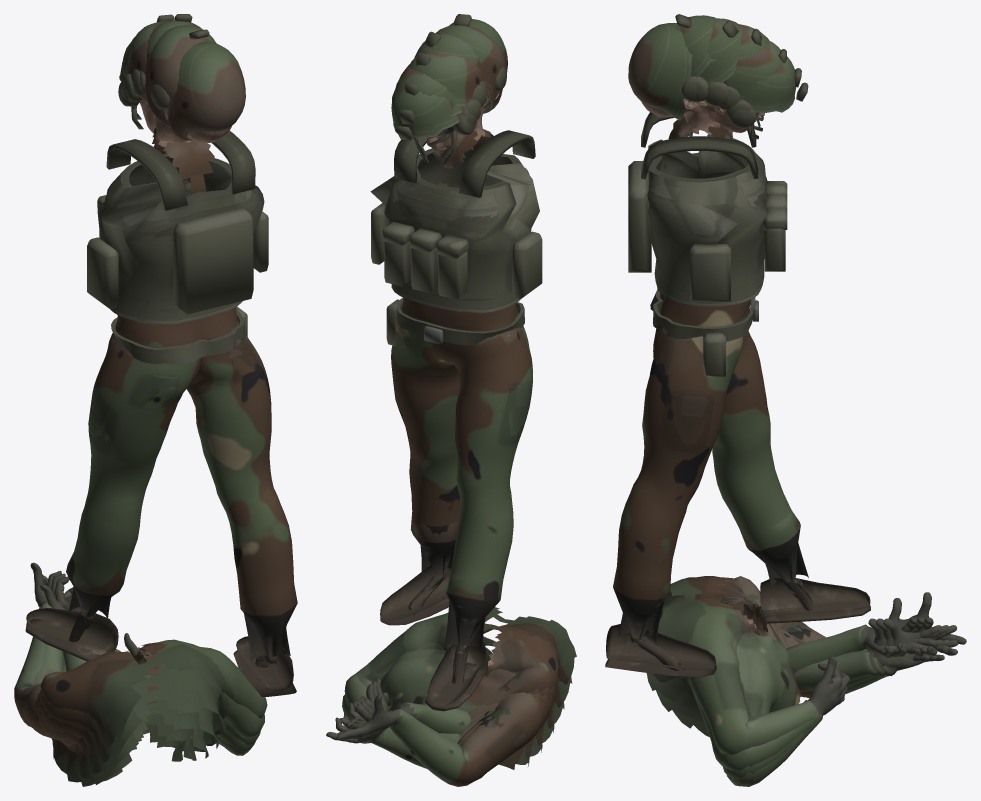
Rendered from crew_redeye.glb.
3 renders of one model, left to right at view 1: azimuth 30°, elevation 25°; view 2: azimuth 150°, elevation 25°; view 3: azimuth 270°, elevation 25°, orthographic. The views are drawn at different scales.
Visible parts, largest first — view 1: turret|STR_woodland, ca5|STR_woodland, th5|STR_woodland, ca4|STR_woodland, ca3|STR_woodland, ca0|STR_woodland, ca1|STR_woodland, ca2|STR_woodland, th4|STR_woodland, th0|STR_woodland, th2|STR_woodland, th3|STR_woodland; view 2: turret|STR_woodland, ca0|STR_woodland, ca5|STR_woodland, th0|STR_woodland, th2|STR_woodland, ca2|STR_woodland, th4|STR_woodland, th1|STR_woodland, ca1|STR_woodland, th5|STR_woodland, th3|STR_woodland, ca4|STR_woodland (+1 smaller); view 3: turret|STR_woodland, ca5|STR_woodland, th5|STR_woodland, ca0|STR_woodland, ca4|STR_woodland, ca3|STR_woodland, th0|STR_woodland, ca2|STR_woodland, ca1|STR_woodland, th4|STR_woodland, th3|STR_woodland, th1|STR_woodland (+1 smaller).
Boxes of the visible parts, x1=… form: turret|STR_woodland: x1=25, y1=130, x2=297, y2=696; ca5|STR_woodland: x1=40, y1=584, x2=267, y2=757; th5|STR_woodland: x1=150, y1=29, x2=245, y2=171; ca4|STR_woodland: x1=39, y1=576, x2=262, y2=764; ca3|STR_woodland: x1=37, y1=573, x2=264, y2=775; ca0|STR_woodland: x1=14, y1=564, x2=248, y2=782; ca1|STR_woodland: x1=28, y1=562, x2=255, y2=786; ca2|STR_woodland: x1=35, y1=570, x2=260, y2=784; th4|STR_woodland: x1=139, y1=14, x2=216, y2=174; th0|STR_woodland: x1=118, y1=42, x2=214, y2=180; th2|STR_woodland: x1=123, y1=21, x2=214, y2=176; th3|STR_woodland: x1=130, y1=14, x2=213, y2=174; turret|STR_woodland: x1=370, y1=130, x2=542, y2=711; ca0|STR_woodland: x1=326, y1=653, x2=544, y2=786; ca5|STR_woodland: x1=340, y1=607, x2=576, y2=734; th0|STR_woodland: x1=391, y1=87, x2=493, y2=164; th2|STR_woodland: x1=405, y1=50, x2=492, y2=167; ca2|STR_woodland: x1=339, y1=647, x2=554, y2=768; th4|STR_woodland: x1=424, y1=25, x2=504, y2=168; th1|STR_woodland: x1=396, y1=63, x2=493, y2=167; ca1|STR_woodland: x1=327, y1=652, x2=543, y2=758; th5|STR_woodland: x1=435, y1=14, x2=507, y2=167; th3|STR_woodland: x1=414, y1=33, x2=491, y2=168; ca4|STR_woodland: x1=347, y1=623, x2=572, y2=730; turret|STR_woodland: x1=605, y1=112, x2=870, y2=677; ca5|STR_woodland: x1=653, y1=576, x2=935, y2=754; th5|STR_woodland: x1=628, y1=14, x2=733, y2=139; ca0|STR_woodland: x1=730, y1=600, x2=966, y2=786; ca4|STR_woodland: x1=646, y1=587, x2=942, y2=766; ca3|STR_woodland: x1=656, y1=592, x2=949, y2=771; th0|STR_woodland: x1=668, y1=56, x2=808, y2=139; ca2|STR_woodland: x1=672, y1=597, x2=958, y2=779; ca1|STR_woodland: x1=694, y1=592, x2=966, y2=784; th4|STR_woodland: x1=676, y1=15, x2=738, y2=139; th3|STR_woodland: x1=676, y1=18, x2=762, y2=137; th1|STR_woodland: x1=676, y1=40, x2=801, y2=138.
Size of the model in its own units: 0.6527 by 2.17 by 0.9652.
Materials: 13 (13 with a texture image).
